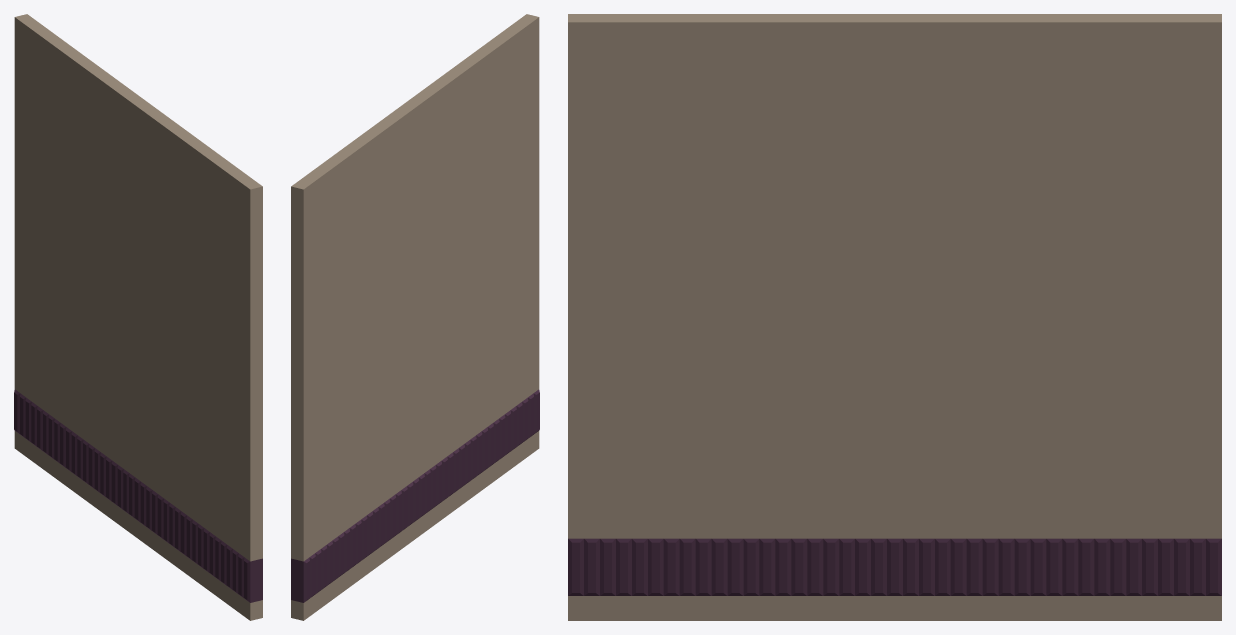
Rendered from mur.fbx.
3 renders of one model, left to right at view 1: azimuth 30°, elevation 25°; view 2: azimuth 150°, elevation 25°; view 3: azimuth 270°, elevation 25°, orthographic. The views are drawn at different scales.
Visible parts, largest first — view 1: Cube; view 2: Cube; view 3: Cube.
Boxes of the visible parts, x1,y1,x2,y2 form: Cube: (14, 14, 262, 620); Cube: (291, 14, 539, 620); Cube: (568, 14, 1221, 620).
Bounding box in the file's own units: 242 × 6571 × 6505.
